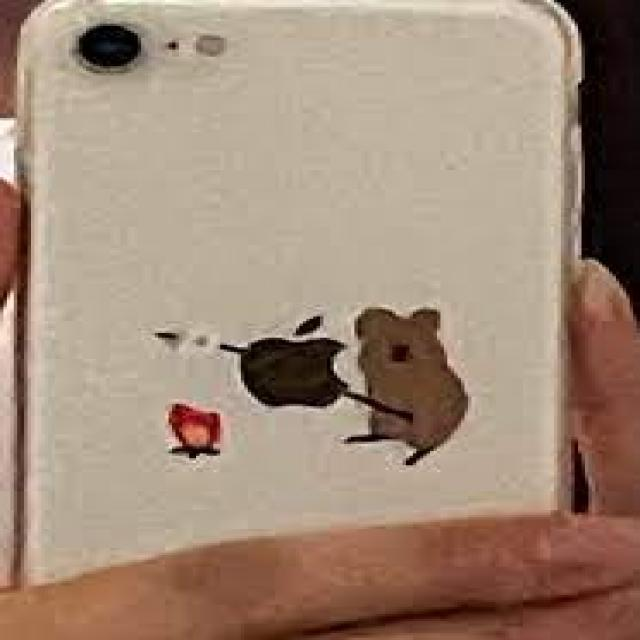Phone: (18, 0, 580, 631)
